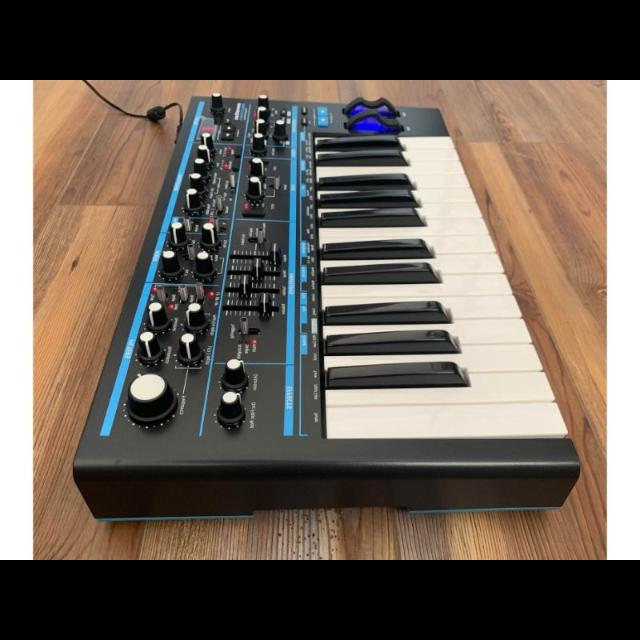Electronic-Keyboard: (68, 98, 584, 516)
